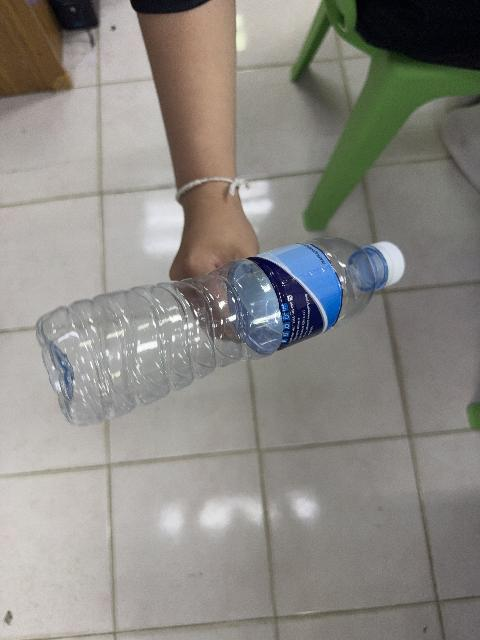bottle: (37, 238, 404, 425)
